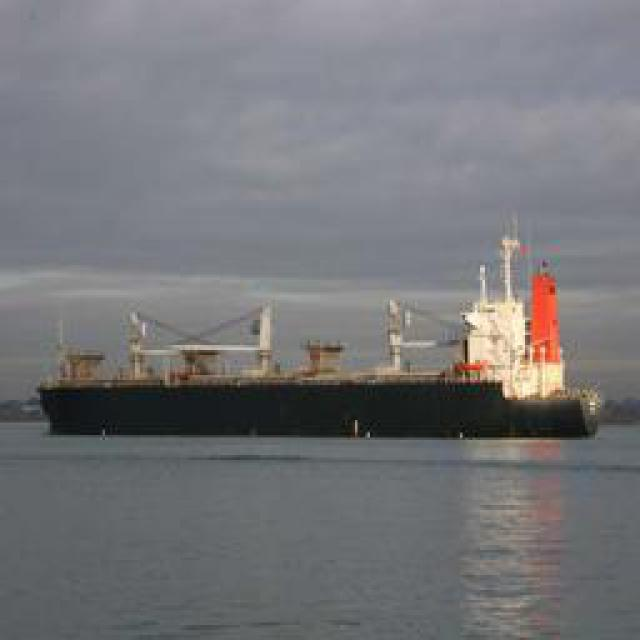Ship: (25, 285, 610, 443)
